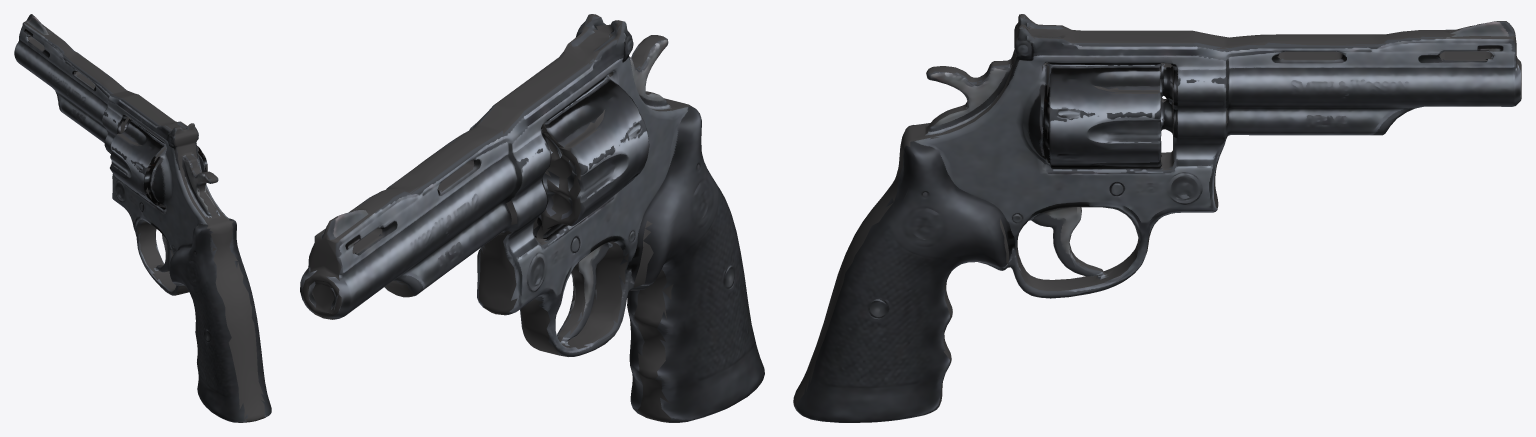
The model's file is revolver.glb.
3 renders of one model, left to right at view 1: azimuth 30°, elevation 25°; view 2: azimuth 150°, elevation 25°; view 3: azimuth 270°, elevation 25°, orthographic. The views are drawn at different scales.
Parts seen in each view (by area): view 1: Mesh_0; view 2: Mesh_0; view 3: Mesh_0.
Part boxes in pixels (x1,y1,x2,y2): Mesh_0: (14,14,271,422); Mesh_0: (300,14,764,422); Mesh_0: (793,14,1521,422).
Size of the model in its own units: 0.0489 by 0.1753 by 0.3.
1 material, 1 textured.
